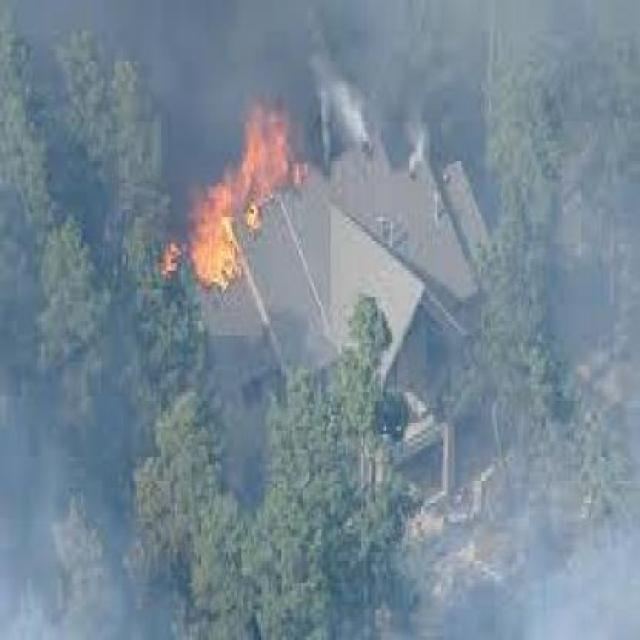Fire: (129, 96, 312, 324)
